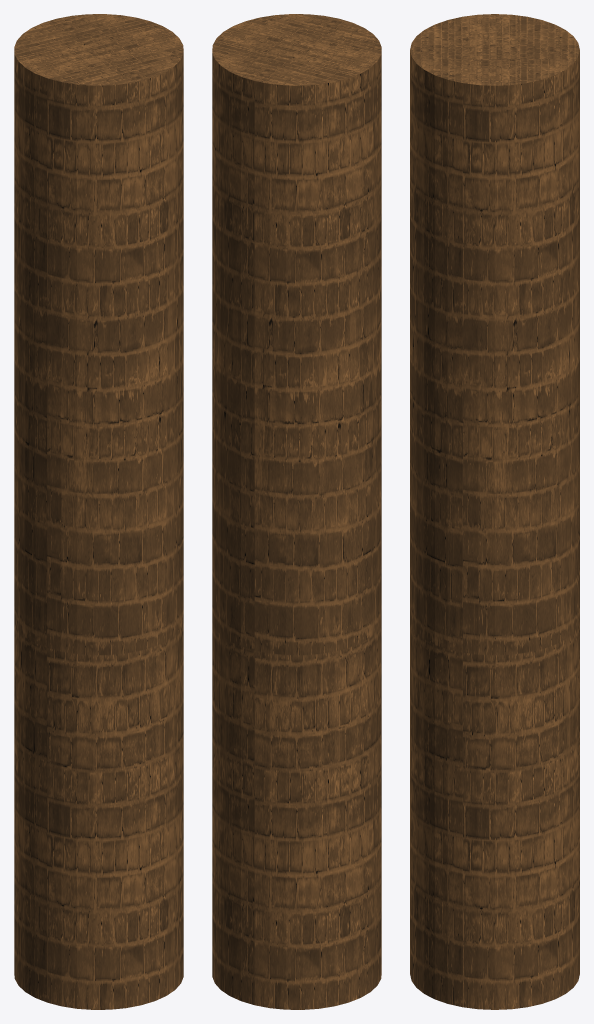
The model's file is Pillar.gltf.
3 renders of one model, left to right at view 1: azimuth 30°, elevation 25°; view 2: azimuth 150°, elevation 25°; view 3: azimuth 270°, elevation 25°, orthographic.
Parts seen in each view (by area): view 1: Cylinder; view 2: Cylinder; view 3: Cylinder.
Part boxes in pixels (bbox=[...]): Cylinder: bbox=[14, 14, 183, 1009]; Cylinder: bbox=[212, 14, 381, 1009]; Cylinder: bbox=[410, 14, 579, 1009].
Size of the model in its own units: 10 by 60 by 10.
1 material, 1 textured.
